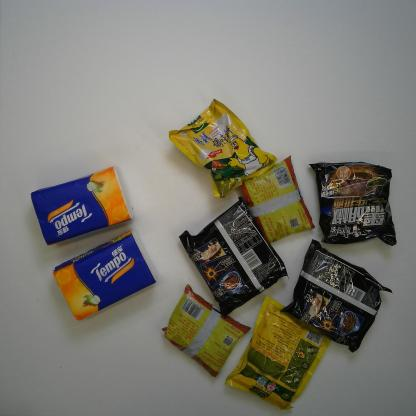Instant Noodles: (178, 196, 290, 318), (279, 238, 393, 354), (307, 161, 397, 247)
Seasoner: (224, 295, 332, 410), (168, 98, 278, 200), (162, 284, 252, 379), (240, 155, 316, 245)
Tissue: (52, 228, 158, 322), (31, 166, 133, 247)
